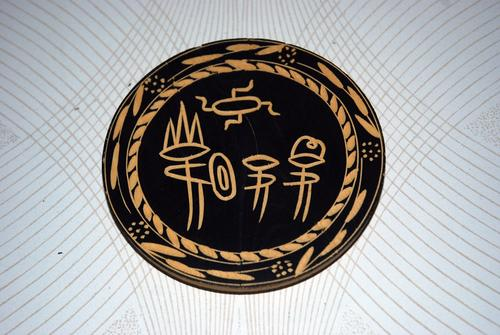naxi: (158, 80, 328, 229)
